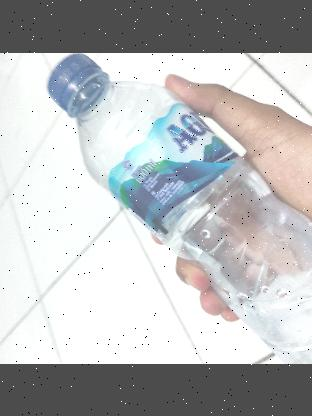Plastic Bottle: (4, 52, 312, 364)
